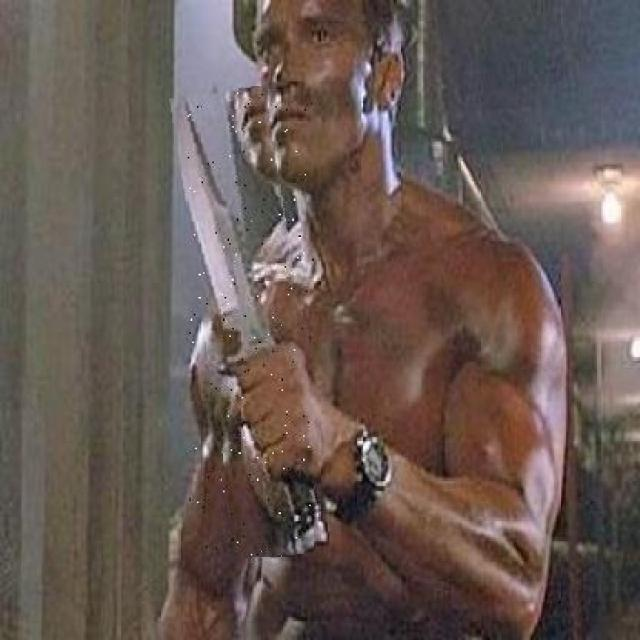knife: (186, 88, 314, 557)
